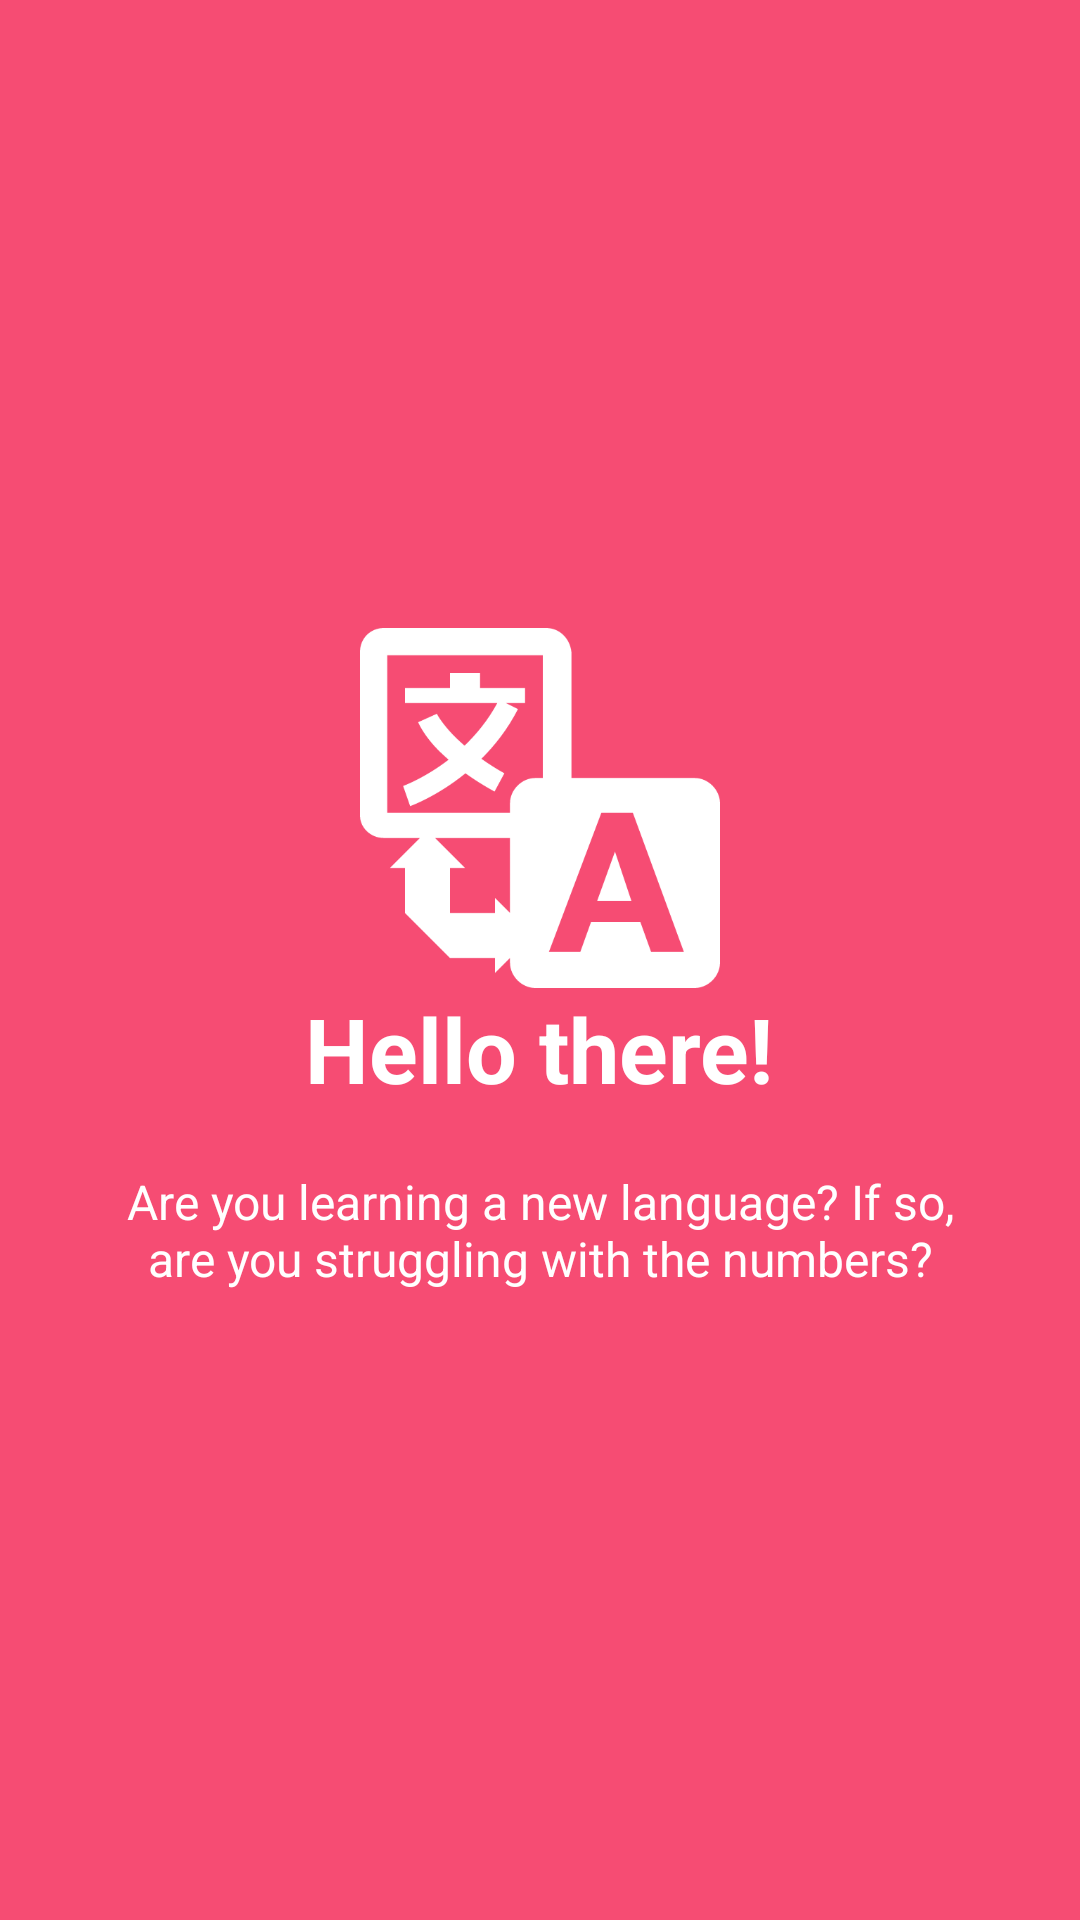

Icons on this 1080x1920 Android screen, each with its box as (x1, y1, x2, y2):
languages: (360, 628, 720, 988)
